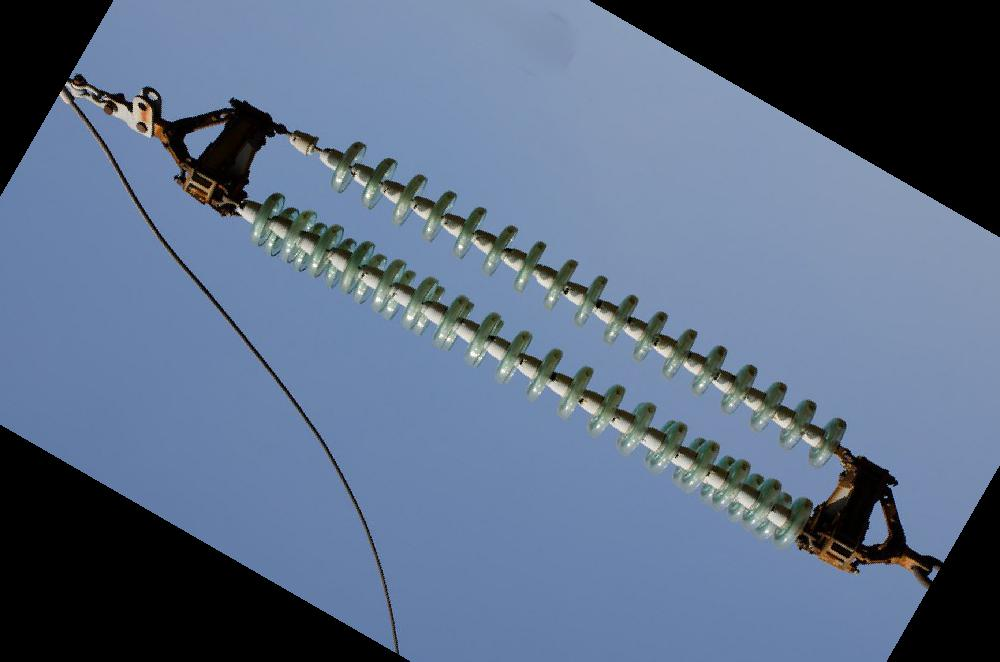insulator: (246, 187, 818, 551), (320, 136, 854, 471)
insulator_stringdrop: (304, 124, 371, 200)
